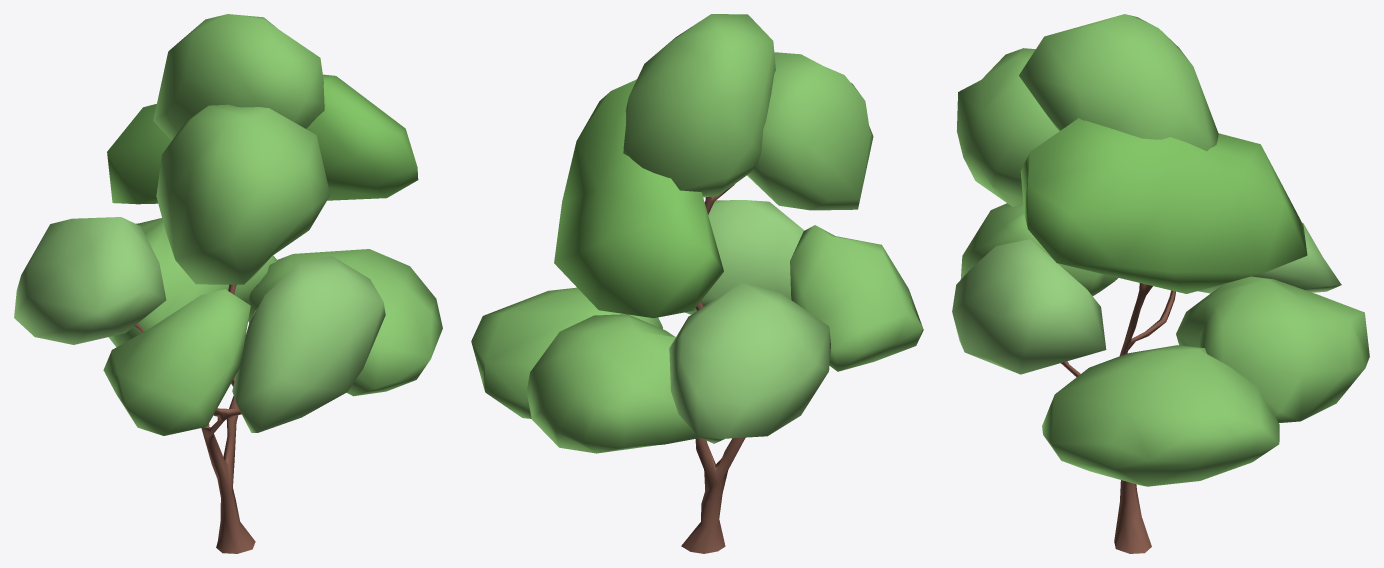
The model's file is tree_001.glb.
The picture shows the model from 3 angles, left to right: view 1: azimuth 30°, elevation 25°; view 2: azimuth 150°, elevation 25°; view 3: azimuth 270°, elevation 25°; orthographic projection. The views are drawn at different scales.
Parts seen in each view (by area): view 1: tree_001; view 2: tree_001; view 3: tree_001.
Part boxes in pixels (left/top/right/bottom): tree_001: left=14, top=14, right=442, bottom=553; tree_001: left=471, top=14, right=923, bottom=553; tree_001: left=952, top=14, right=1369, bottom=553.
Size of the model in its own units: 5.8 by 7.86 by 5.67.
1 material, 1 textured.
